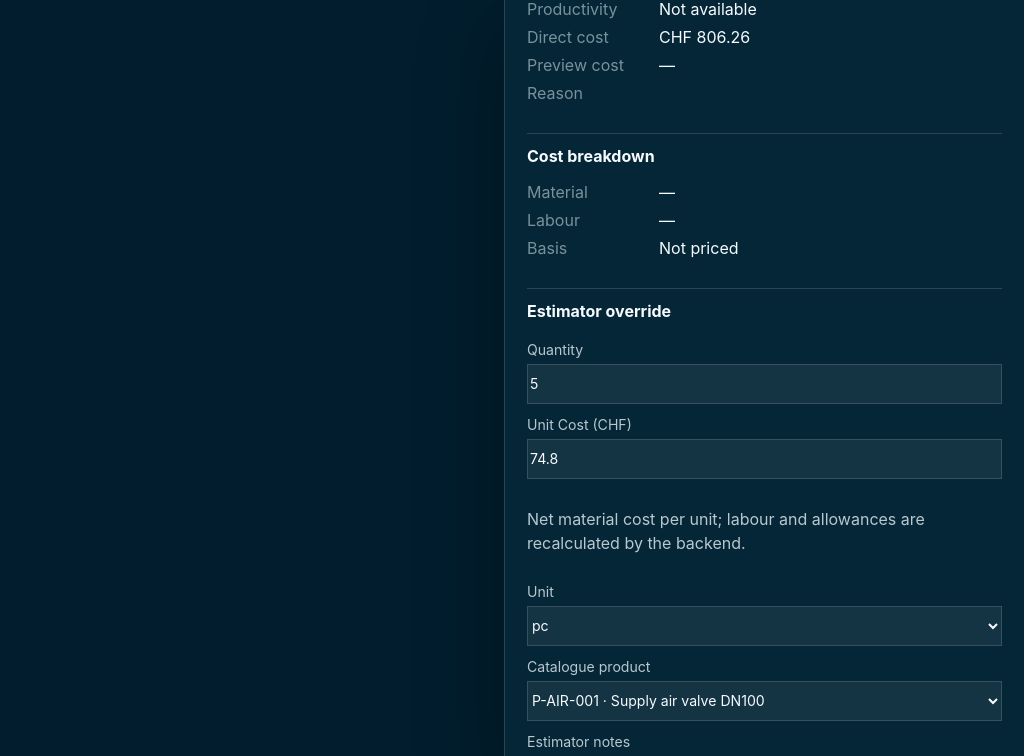
Test case: PositionDrawer › automatically recalculates quantity edits and surfaces backend errors
This screenshot has width=1024, height=756.
(page scrolled)
Replace the text in the number field labelled "Quantity" with "8": (764, 384) top-left (527, 364), bottom-right (1002, 404)
(page scrolled)
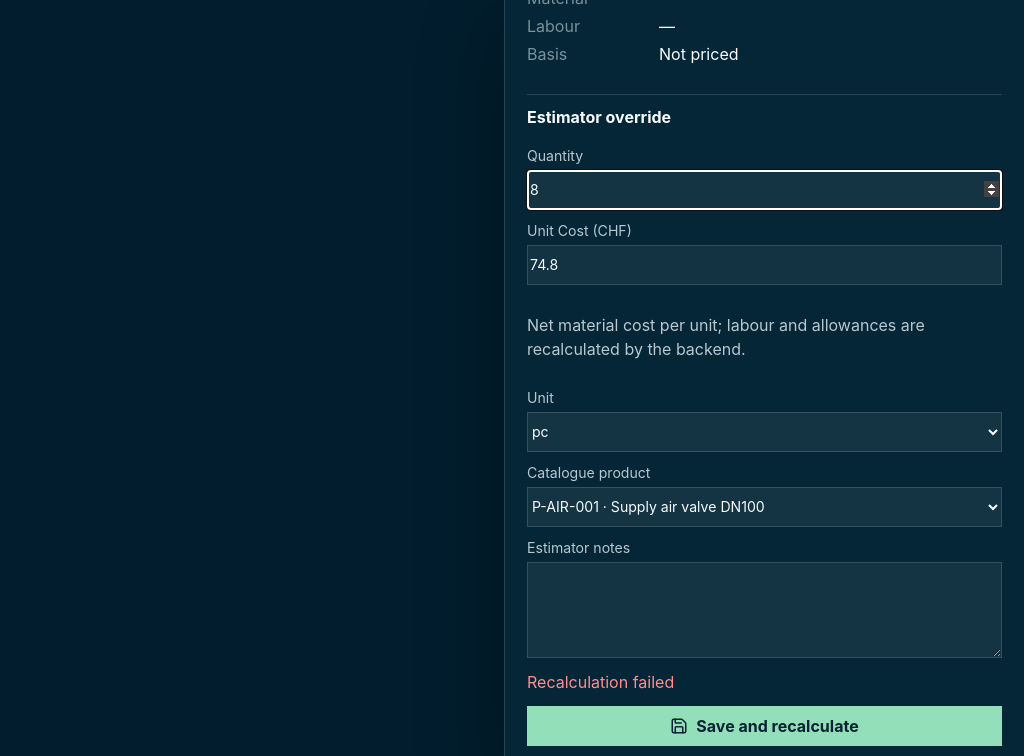
expect the text "Recalculation failed" is shown: met, box top-left (527, 672), bottom-right (674, 692)
